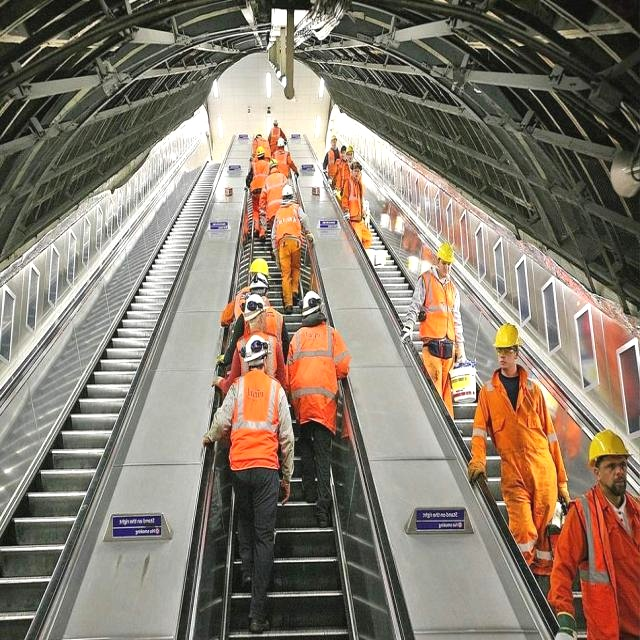Con_Casco: (589, 431, 628, 492), (493, 323, 521, 369), (299, 290, 322, 321), (438, 242, 454, 271), (281, 183, 294, 200)
Con_Chaleco: (485, 376, 547, 470), (227, 375, 281, 467), (291, 326, 334, 419), (422, 273, 458, 339)
